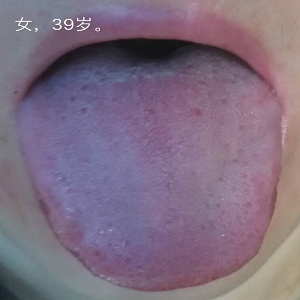st: (15, 96, 286, 291)
